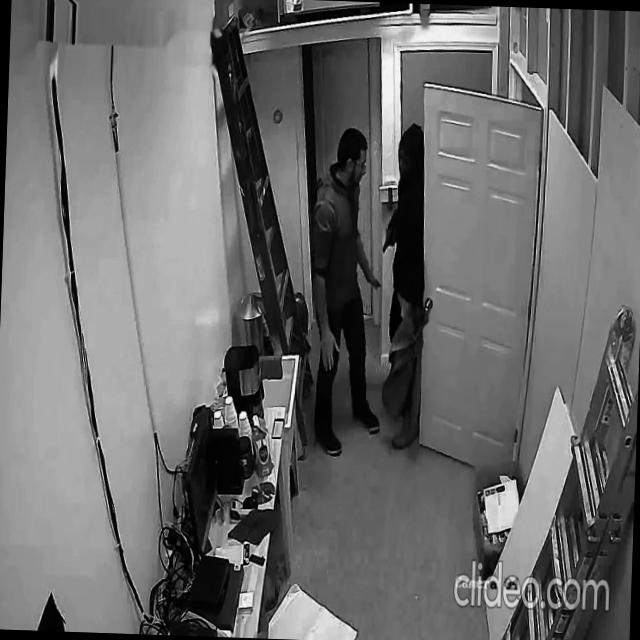gun: (383, 222, 393, 252)
person: (304, 124, 391, 457)
person with a gun: (376, 120, 433, 454)
